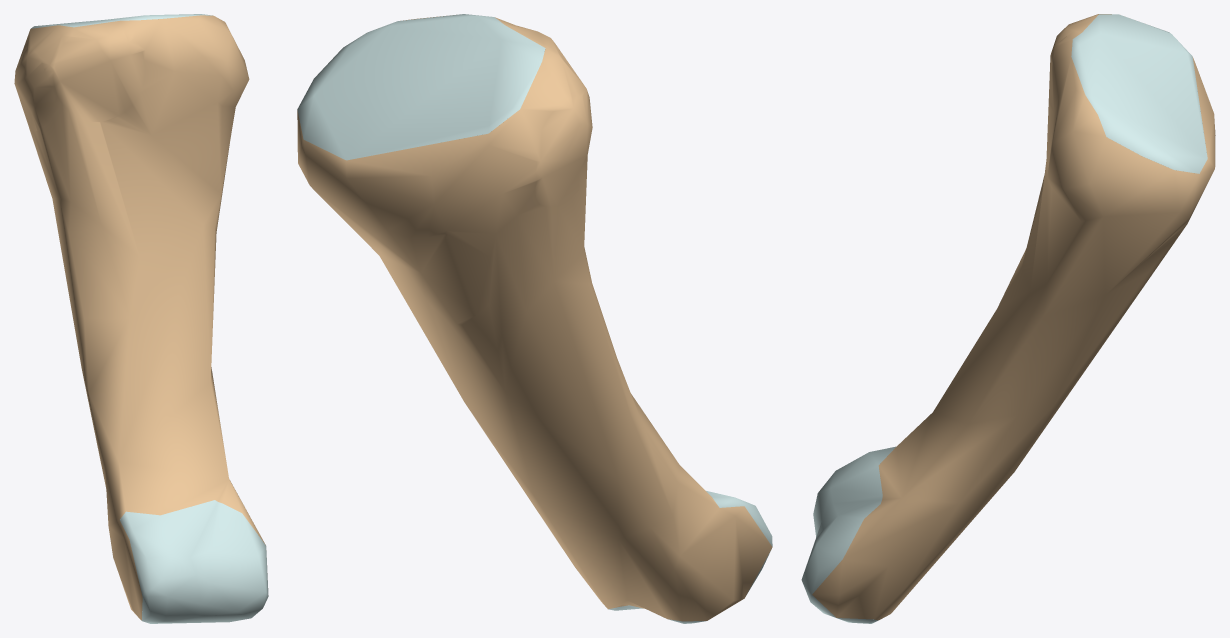
The model's file is Phalanx_proximal_5th_finger_left.glb.
The picture shows the model from 3 angles, left to right: view 1: azimuth 30°, elevation 25°; view 2: azimuth 150°, elevation 25°; view 3: azimuth 270°, elevation 25°; orthographic projection. The views are drawn at different scales.
Parts seen in each view (by area): view 1: Proximal_phalanx_of_5th_finger.l_Generated_Mesh_From_X3D.705; view 2: Proximal_phalanx_of_5th_finger.l_Generated_Mesh_From_X3D.705; view 3: Proximal_phalanx_of_5th_finger.l_Generated_Mesh_From_X3D.705.
Part boxes in pixels (bbox=[...]): Proximal_phalanx_of_5th_finger.l_Generated_Mesh_From_X3D.705: bbox=[14, 14, 268, 623]; Proximal_phalanx_of_5th_finger.l_Generated_Mesh_From_X3D.705: bbox=[297, 14, 772, 623]; Proximal_phalanx_of_5th_finger.l_Generated_Mesh_From_X3D.705: bbox=[801, 14, 1215, 623].
Bounding box in the file's own units: 0.0148 × 0.0338 × 0.0216.
